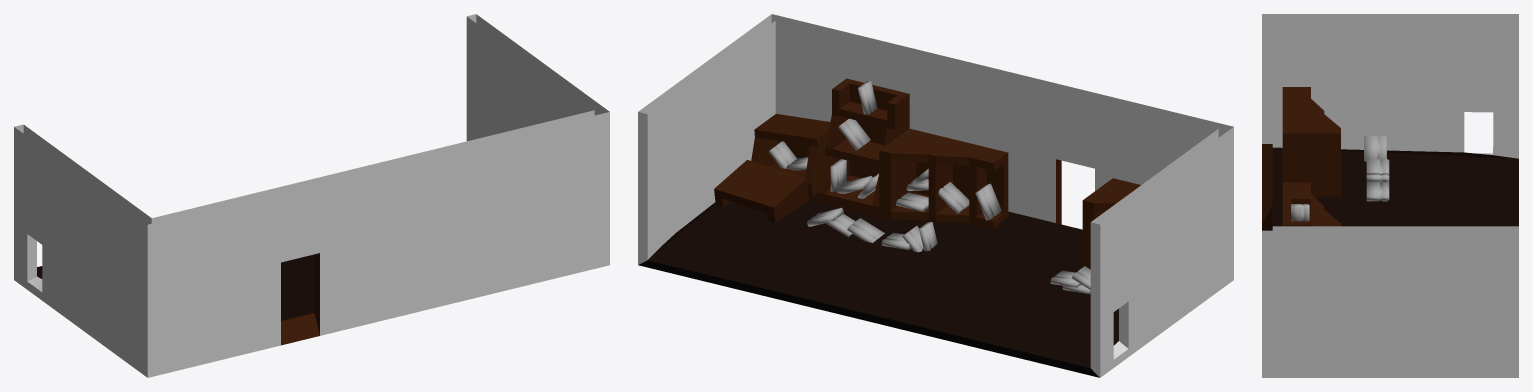
The model's file is mart2.FBX.
The picture shows the model from 3 angles, left to right: view 1: azimuth 30°, elevation 25°; view 2: azimuth 150°, elevation 25°; view 3: azimuth 270°, elevation 25°; orthographic projection. The views are drawn at different scales.
Parts seen in each view (by area): view 1: Box008; view 2: Box008; view 3: Box008.
Part boxes in pixels (x1,y1,x2,y2): Box008: (14,14,609,377); Box008: (638,14,1233,377); Box008: (1262,14,1518,377).
Size of the model in its own units: 1500 by 476 by 752.
